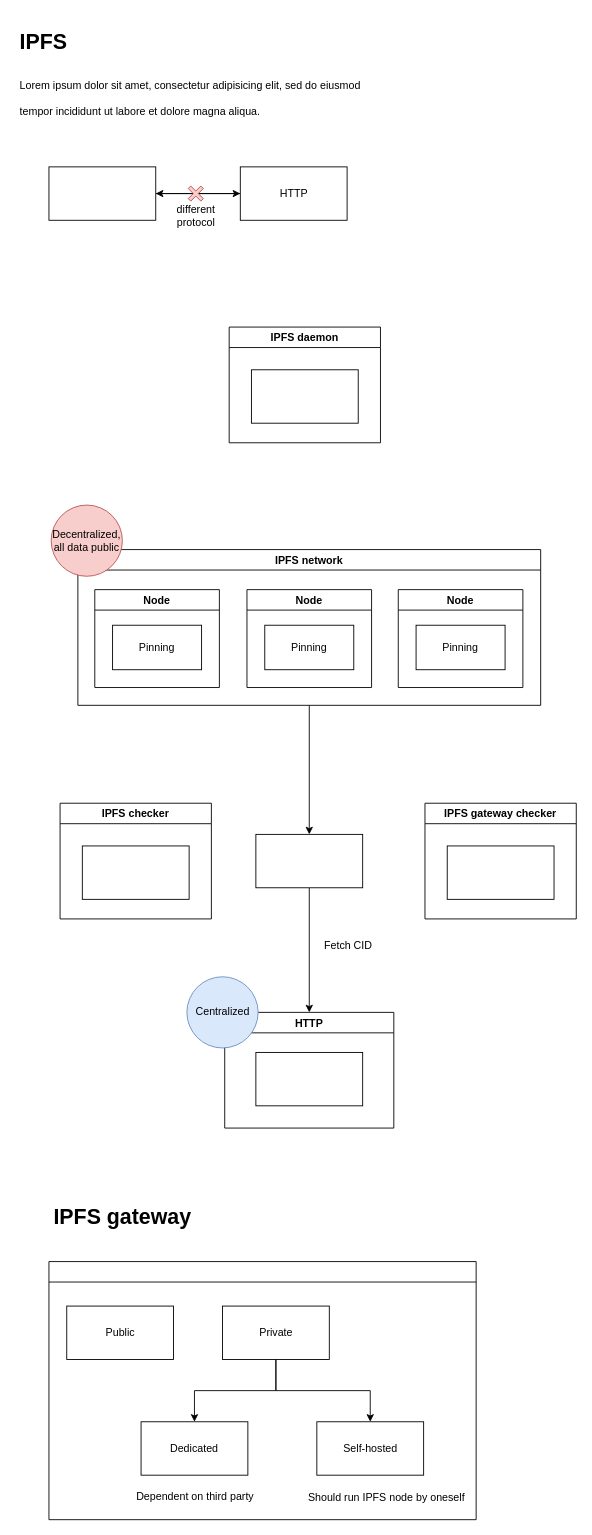
The diagram is 592 pixels wide and 1535 high, and some of its shapes have lost their labels. The centre of each missing label's shape, as x and y in pixels:
a group of gateway providers: [500,872]
Check CID availability: [135,872]
Gateway: [309,860]
HTTP gateway: [262,1390]
IPFS: [102,193]
peer id: [304,396]
Web browser: [309,1079]
